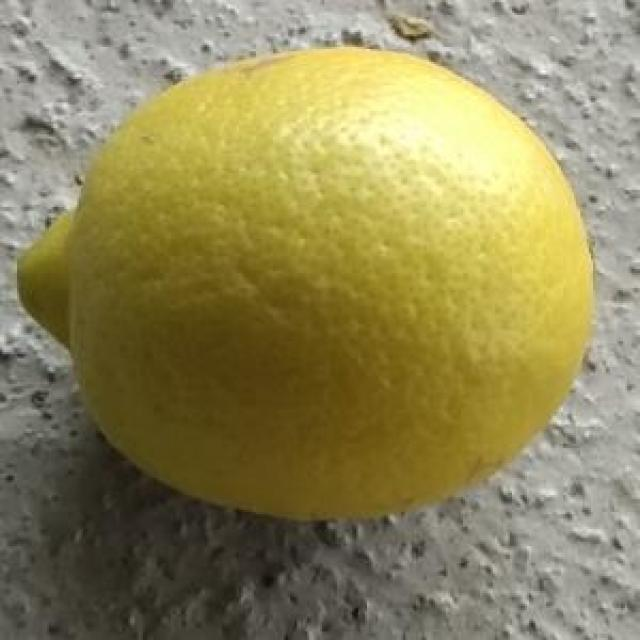lemon: (17, 46, 594, 530)
